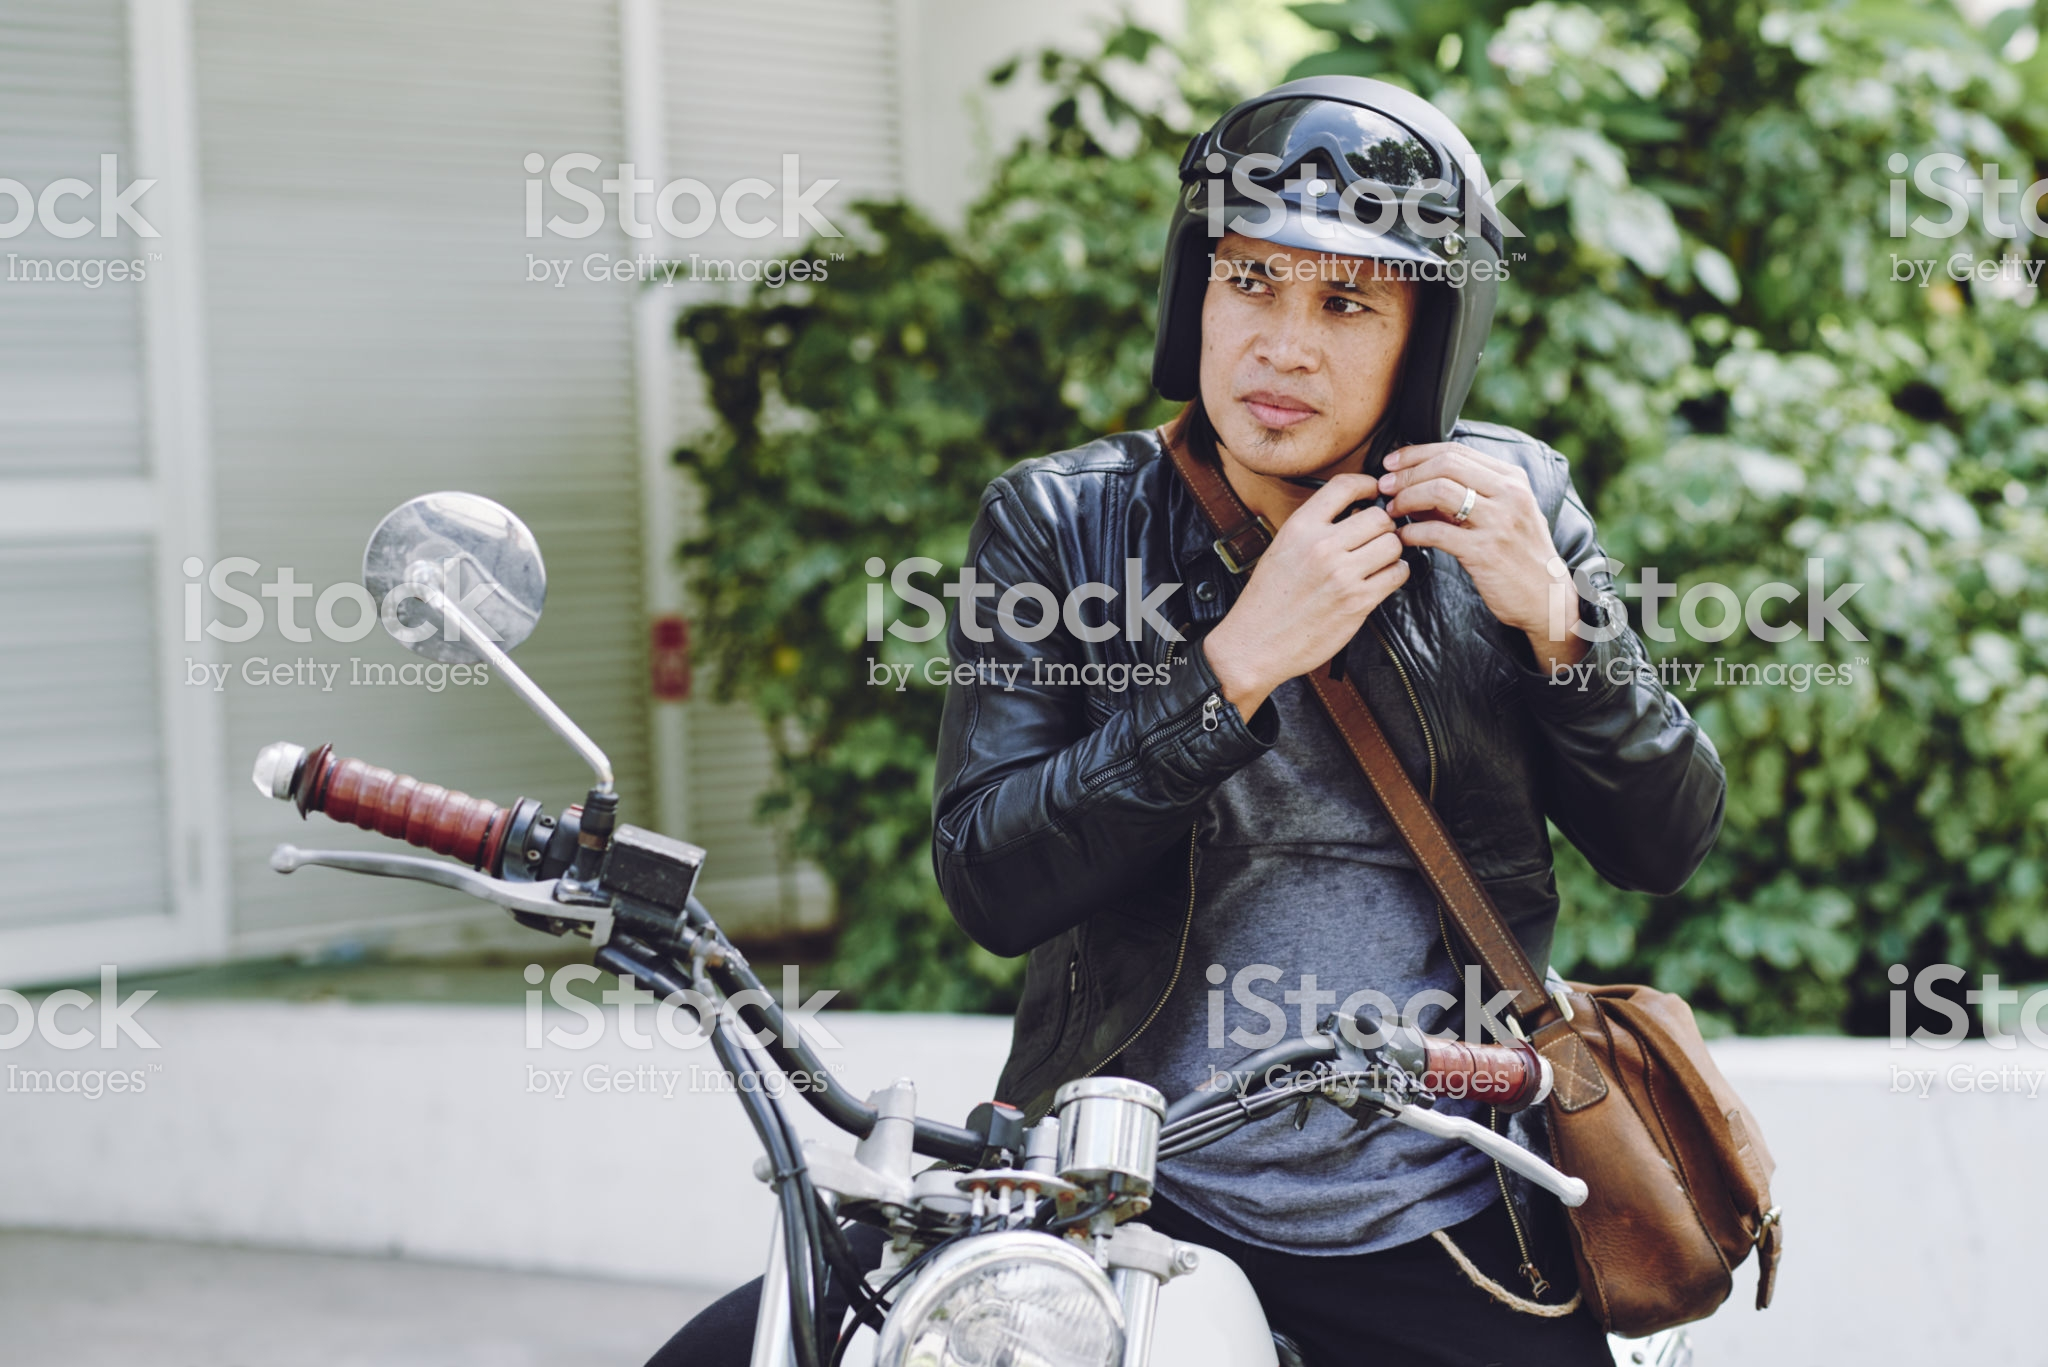helmet: (1141, 88, 1513, 400)
